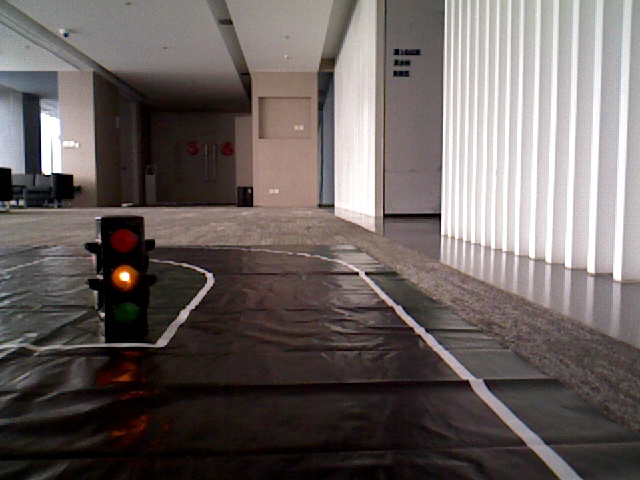yellow: (100, 215, 144, 319)
